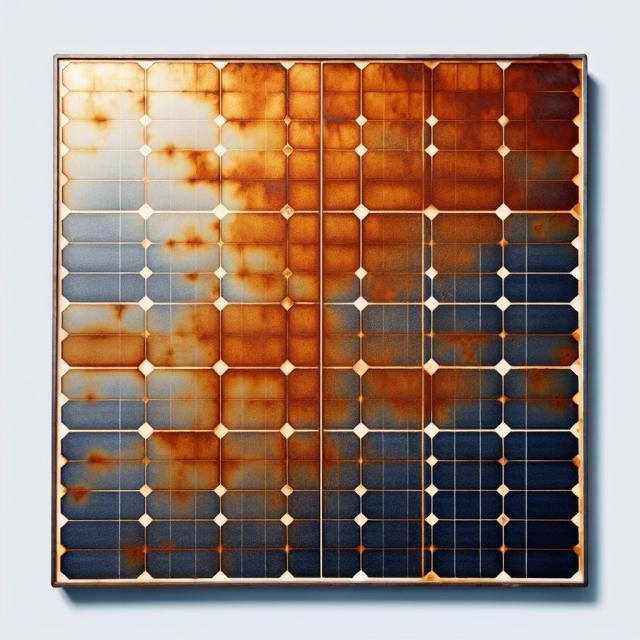Anomaly Solar Panel: (54, 58, 583, 579)
